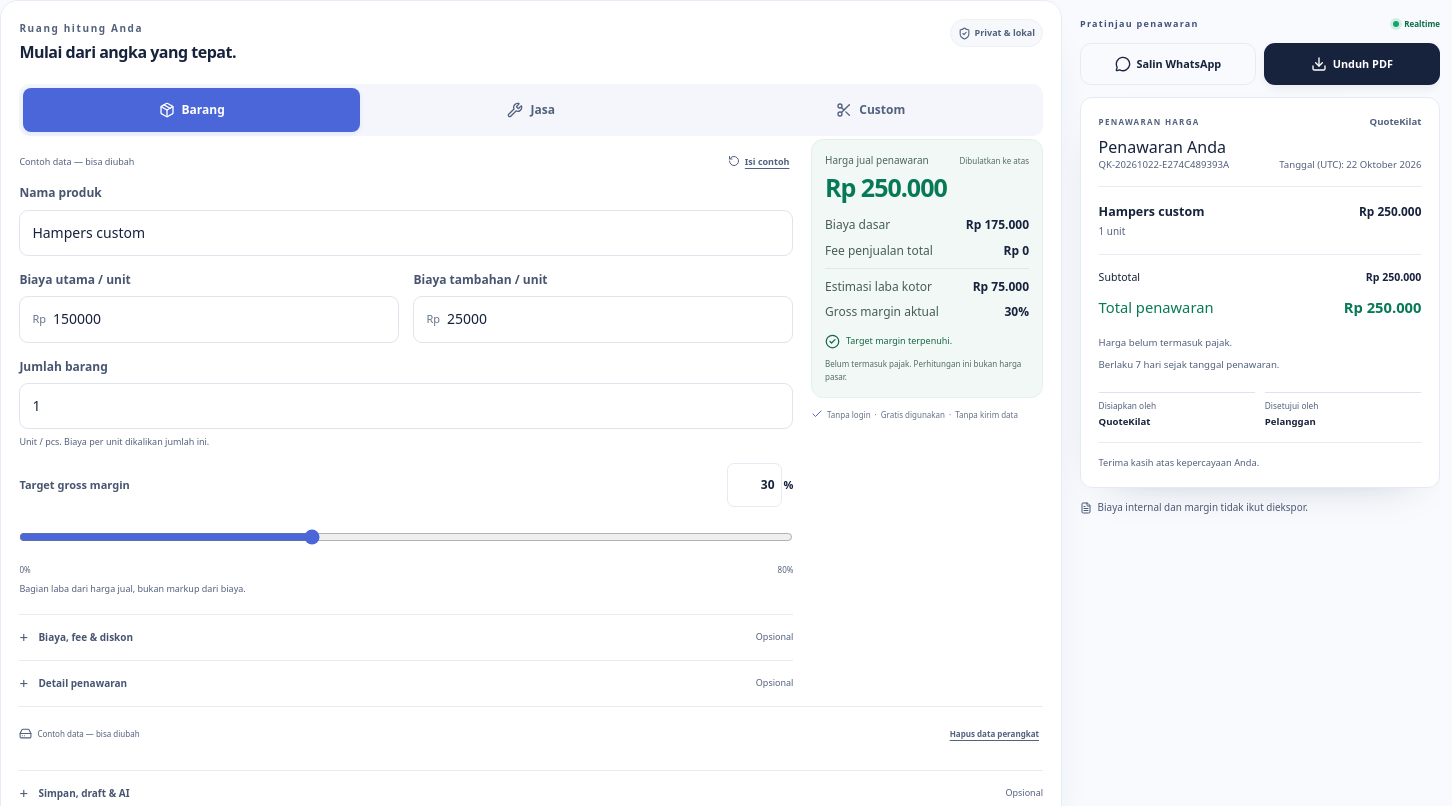
Test case: updates service costs and prevents invalid quotes
Click the tab "Jasa".
click(531, 110)  # box [363,88,699,132]
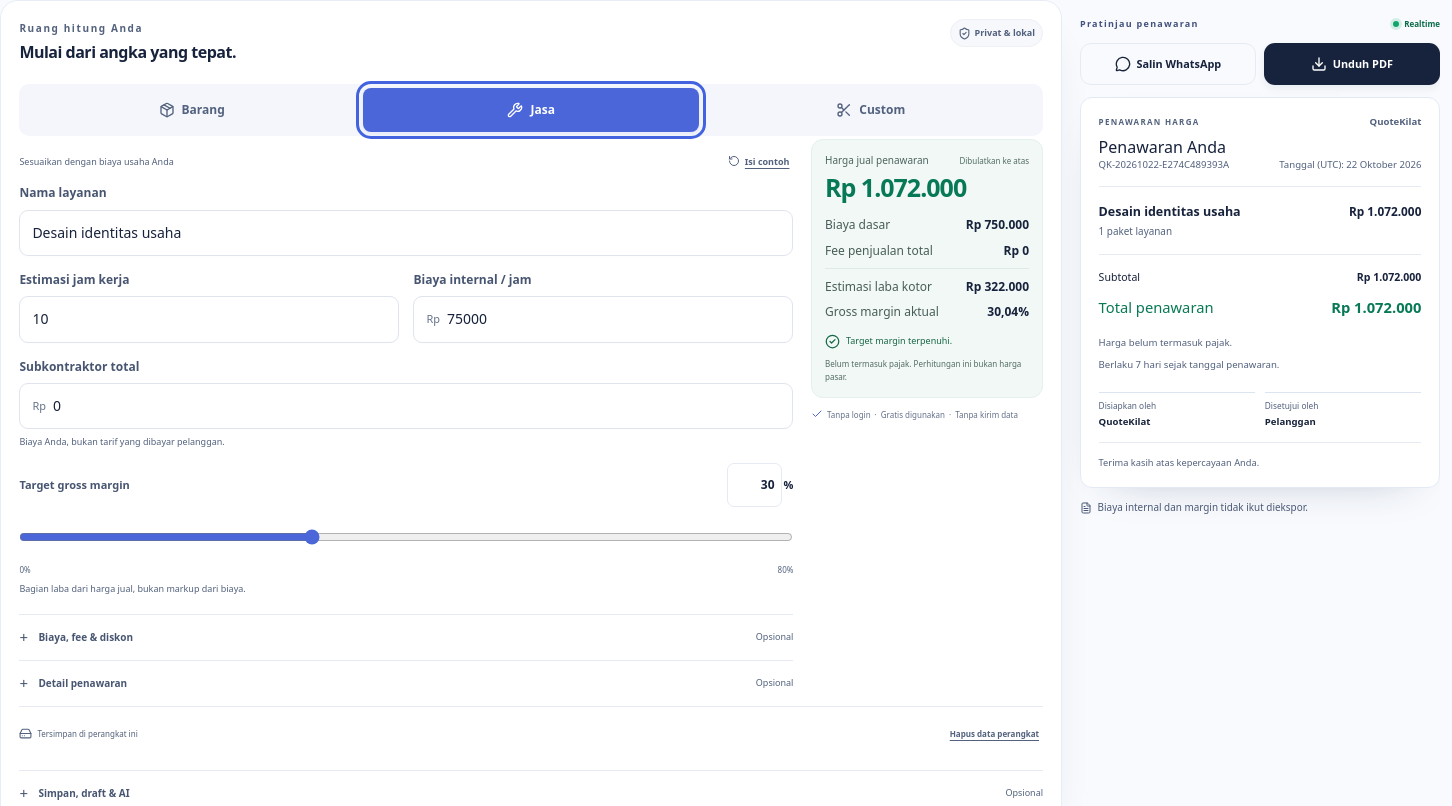
expect the field labelled "Estimasi jam kerja" holds "10": met
Clear the field labelled "Estimasi jam kerja" at (209, 319), box [20,297,398,342]
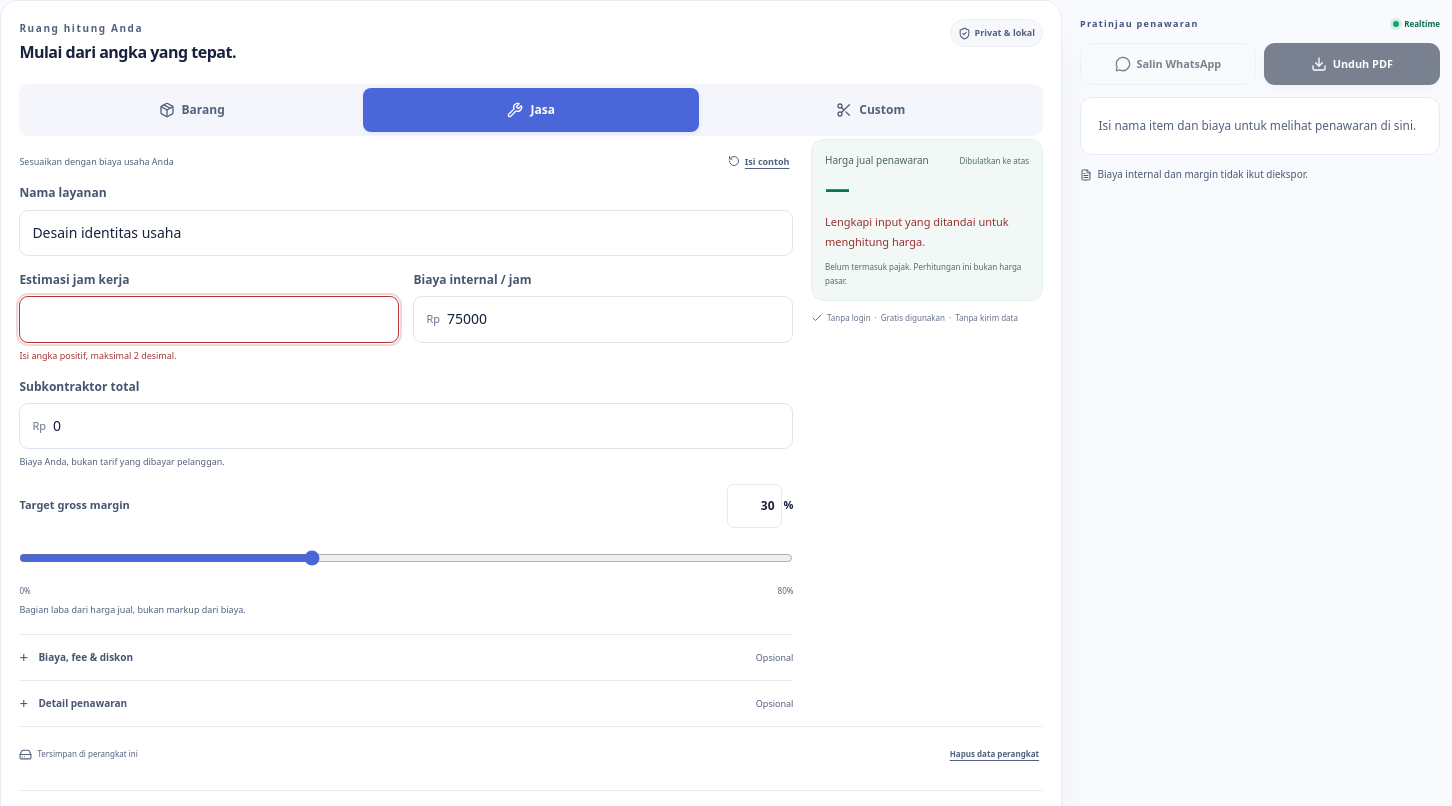
expect the button "Unduh PDF" is disabled: met, box [1264,43,1440,85]
